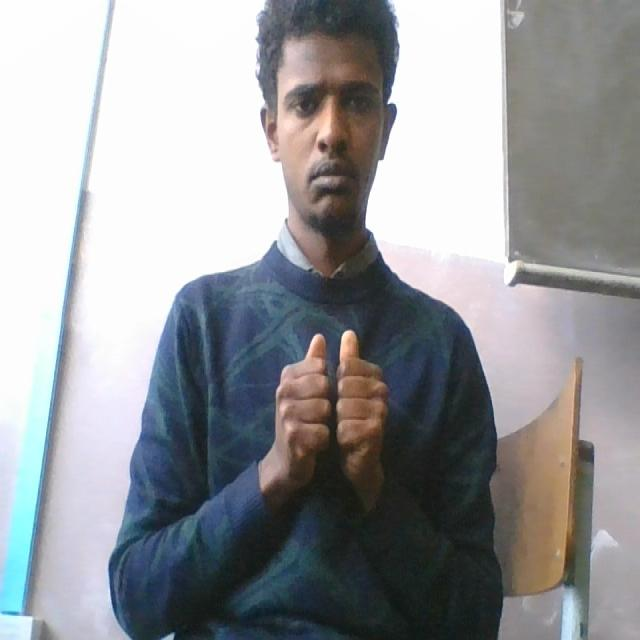dabo: (271, 324, 393, 499)
